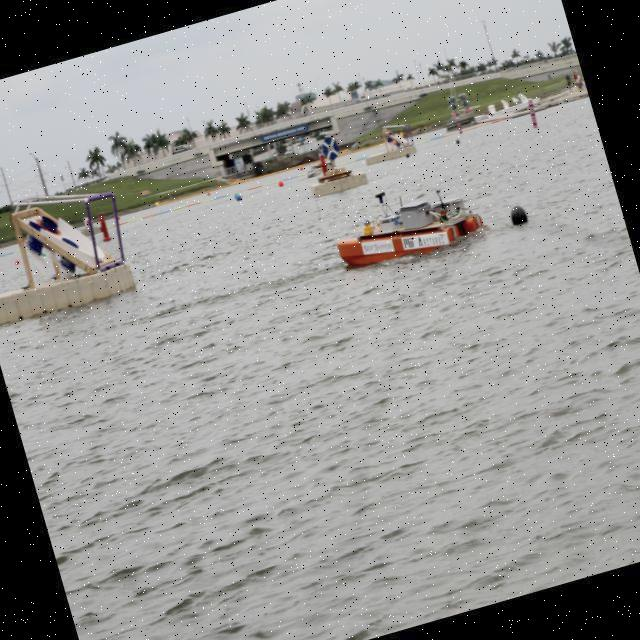buoy: (507, 202, 528, 227)
